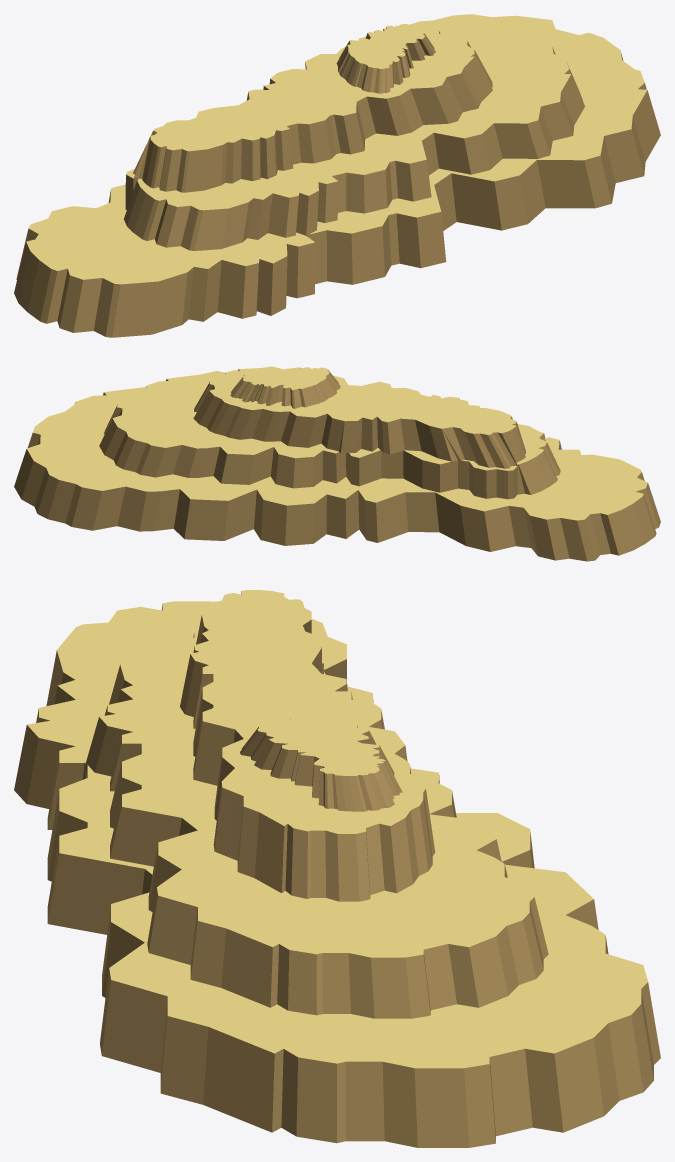
Rendered from Hill_Mound_Sand_01.fbx.
3 renders of one model, top to bottom at view 1: azimuth 30°, elevation 25°; view 2: azimuth 150°, elevation 25°; view 3: azimuth 270°, elevation 25°, orthographic. The views are drawn at different scales.
Visible parts, largest first — view 1: Hill_Mound_Sand_01; view 2: Hill_Mound_Sand_01; view 3: Hill_Mound_Sand_01.
Boxes of the visible parts, x1=… form: Hill_Mound_Sand_01: x1=14, y1=14, x2=660, y2=337; Hill_Mound_Sand_01: x1=14, y1=366, x2=660, y2=561; Hill_Mound_Sand_01: x1=14, y1=590, x2=660, y2=1147.
Size of the model in its own units: 820 by 160 by 461.
